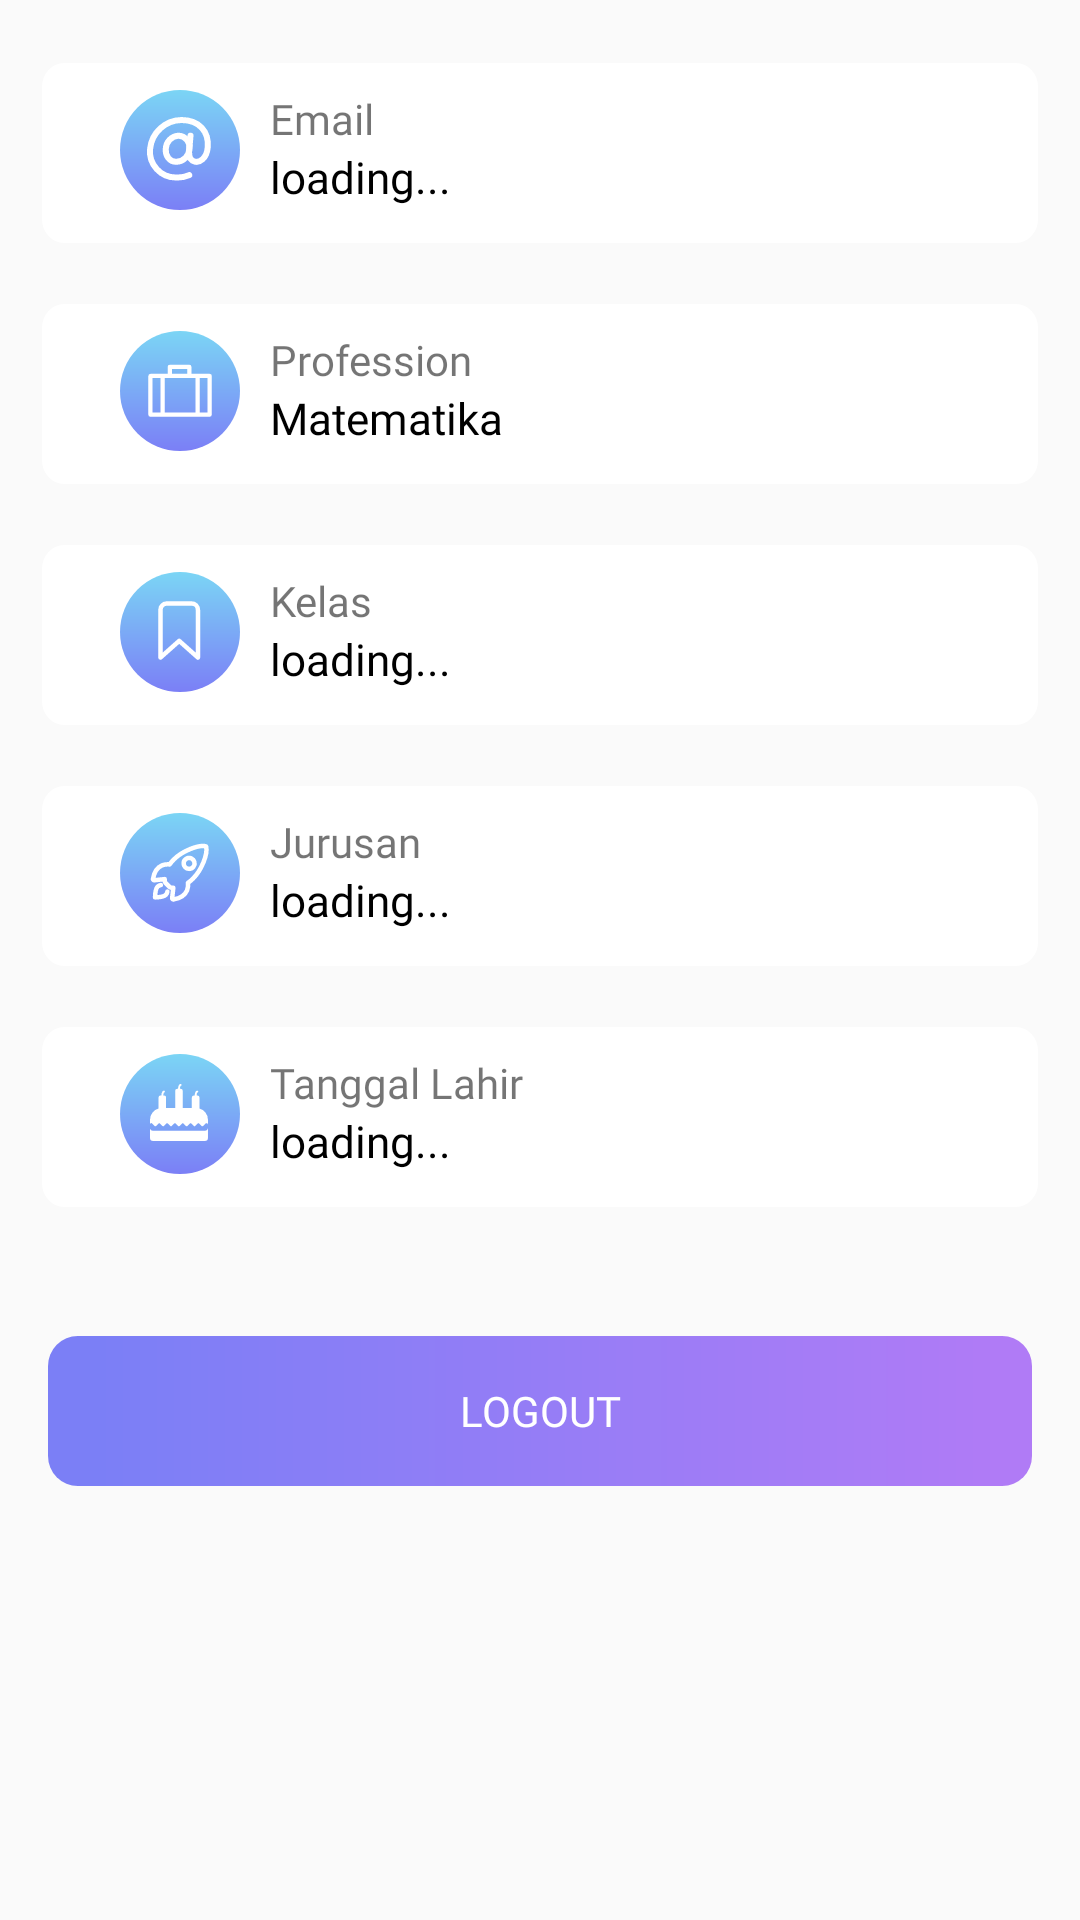

Point at icon controls on the screen. Image size 1080px x 1920px, points as (x,y).
cake: (180,1114)
rocket: (180,873)
